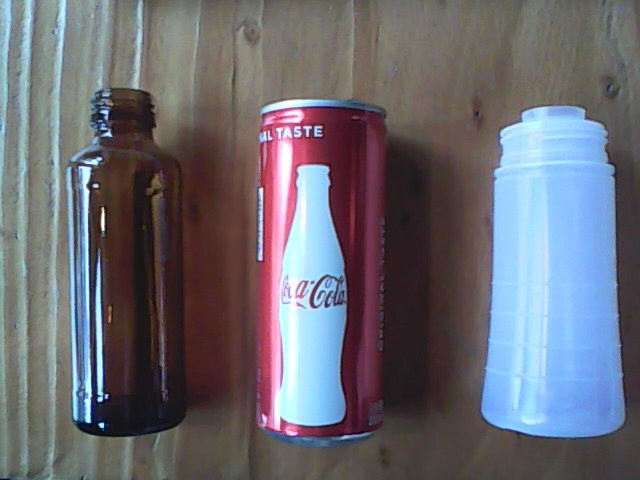Can: (245, 93, 393, 451)
Glass: (61, 77, 193, 445)
Plastic: (472, 96, 634, 446)
